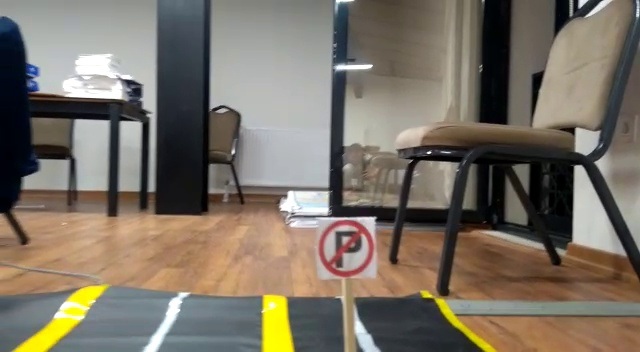park_yapilmaz: (316, 220, 378, 277)
